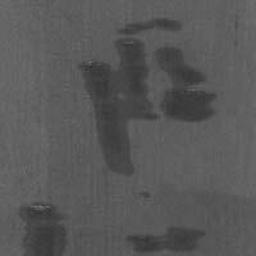Oil spot: (77, 15, 220, 178), (17, 196, 70, 255), (125, 225, 209, 255), (138, 189, 152, 201)
